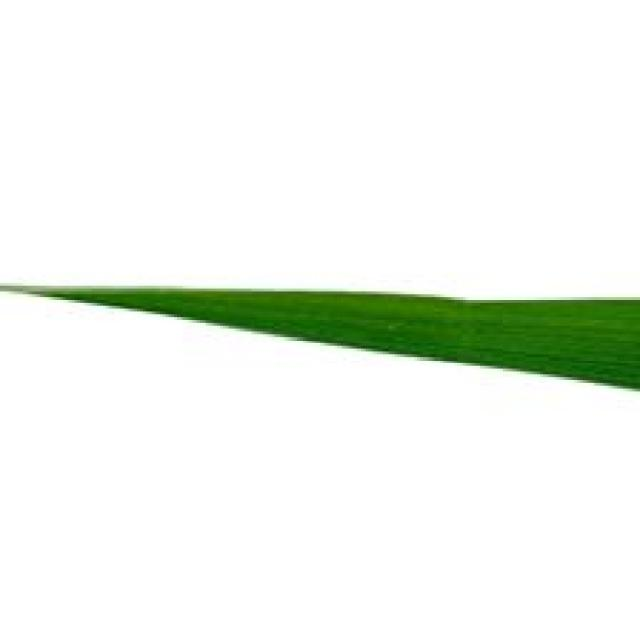Rice___Healthy_Rice_Plant: (0, 284, 637, 391)
